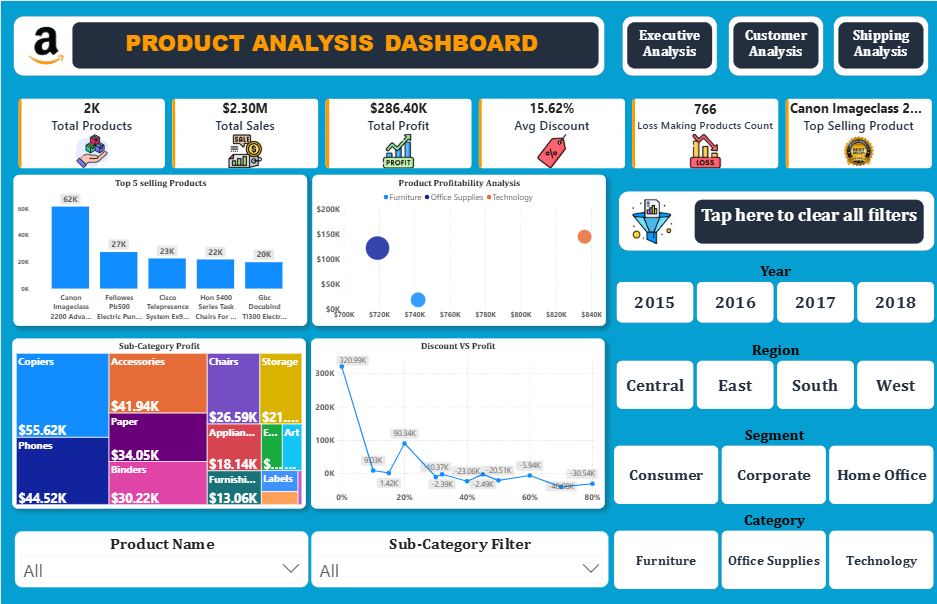

Layout of this report page (visuals, bound fields, positions):
{"tool":"powerbi","page":{"name":"Product Analysis","canvas":[2500,1610],"ordinal":1},"visuals":[{"type":"shape","box":[33.3,40,1576.7,160],"z":0},{"type":"cardVisual","fields":{"Data":["Orders.Total Products","Orders.Total Sales","Orders.Total Profit","Orders.Avg Discount","Orders.Loss Making Products Count","Orders.Top Selling Product"]},"box":[30,243.3,2470,220],"z":1000},{"type":"columnChart","title":"Top 5 selling Products","fields":{"Category":["Orders.Product Name"],"Y":["Sum(Orders.Sales)"]},"box":[33.3,463.3,783.3,403.3],"z":2000},{"type":"scatterChart","title":"Product Profitability Analysis","fields":{"X":["Orders.Total Sales"],"Y":["Orders.Total Profit"],"Size":["Sum(Orders.Quantity)"],"Series":["Orders.Category"]},"box":[830,463.3,783.3,403.3],"z":3000},{"type":"treemap","title":"Sub-Category Profit","fields":{"Group":["Orders.Sub-Category"],"Values":["Orders.Total Profit"]},"box":[30,900,783.3,453.3],"z":4000},{"type":"lineChart","title":"Discount VS Profit ","fields":{"Category":["Orders.Discount"],"Y":["Sum(Orders.Profit)"]},"box":[826.7,900,783.3,453.3],"z":5000},{"type":"advancedSlicerVisual","fields":{"Values":["Custom Calendar.Date.Variation.Date Hierarchy.Year"]},"box":[1630,690,870,180],"z":6000},{"type":"advancedSlicerVisual","fields":{"Values":["Orders.Region"]},"box":[1630,900,870,200],"z":7000},{"type":"advancedSlicerVisual","fields":{"Values":["Orders.Category"]},"box":[1623.3,1353.3,876.7,226.7],"z":8000},{"type":"advancedSlicerVisual","fields":{"Values":["Orders.Segment"]},"box":[1623.3,1126.7,876.7,226.7],"z":9000},{"type":"shape","box":[1656.7,40,253.3,160],"z":10000},{"type":"textbox","box":[1670,56.7,226.7,123.3],"z":11000},{"type":"shape","box":[1940,40,253.3,160],"z":12000},{"type":"textbox","box":[1953.3,56.7,226.7,123.3],"z":13000},{"type":"shape","box":[2220,40,253.3,160],"z":14000},{"type":"textbox","box":[2233.3,56.7,226.7,123.3],"z":15000},{"type":"textbox","box":[190,56.7,1403.3,123.3],"z":16000},{"type":"image","box":[50,50,140,140],"z":17000},{"type":"shape","box":[1646.7,506.7,843.3,160],"z":18000},{"type":"image","box":[1656.7,523.3,160,130],"z":19000},{"type":"slicer","title":"Sub-Category Filter ","fields":{"Values":["Orders.Sub-Category"]},"box":[826.7,1413.3,793.3,150],"z":20000},{"type":"slicer","title":"Product Name","fields":{"Values":["Orders.Product Name"]},"box":[36.7,1413.3,783.3,150],"z":21000},{"type":"textbox","box":[1850,530,610,116.7],"z":22000},{"type":"actionButton","box":[1850,530,610,116.7],"z":23000},{"type":"actionButton","box":[1935,40,255,160],"z":24000},{"type":"actionButton","box":[2220,40,256.7,160],"z":25000},{"type":"actionButton","box":[1656.7,40,253.3,160],"z":26000}]}

Visuals, with their boxes in screenshot pixels (x1, y1, x2, y2), scaled from the page's 2500x1610 canvas onto the 937x604 screenshot:
shape: x1=12, y1=15, x2=603, y2=75
cardVisual - Orders.Total Products x Orders.Total Sales: x1=11, y1=91, x2=936, y2=174
"Top 5 selling Products" columnChart: x1=12, y1=174, x2=306, y2=325
"Product Profitability Analysis" scatterChart: x1=311, y1=174, x2=605, y2=325
"Sub-Category Profit" treemap: x1=11, y1=338, x2=305, y2=508
"Discount VS Profit " lineChart: x1=310, y1=338, x2=603, y2=508
advancedSlicerVisual - Custom Calendar.Date.Variation.Date Hierarchy.Year: x1=611, y1=259, x2=936, y2=326
advancedSlicerVisual - Orders.Region: x1=611, y1=338, x2=936, y2=413
advancedSlicerVisual - Orders.Category: x1=608, y1=508, x2=936, y2=593
advancedSlicerVisual - Orders.Segment: x1=608, y1=423, x2=936, y2=508
shape: x1=621, y1=15, x2=716, y2=75
textbox: x1=626, y1=21, x2=711, y2=68
shape: x1=727, y1=15, x2=822, y2=75
textbox: x1=732, y1=21, x2=817, y2=68
shape: x1=832, y1=15, x2=927, y2=75
textbox: x1=837, y1=21, x2=922, y2=68
textbox: x1=71, y1=21, x2=597, y2=68
image: x1=19, y1=19, x2=71, y2=71
shape: x1=617, y1=190, x2=933, y2=250
image: x1=621, y1=196, x2=681, y2=245
"Sub-Category Filter " slicer: x1=310, y1=530, x2=607, y2=586
"Product Name" slicer: x1=14, y1=530, x2=307, y2=586
textbox: x1=693, y1=199, x2=922, y2=243
actionButton: x1=693, y1=199, x2=922, y2=243
actionButton: x1=725, y1=15, x2=821, y2=75
actionButton: x1=832, y1=15, x2=928, y2=75
actionButton: x1=621, y1=15, x2=716, y2=75
